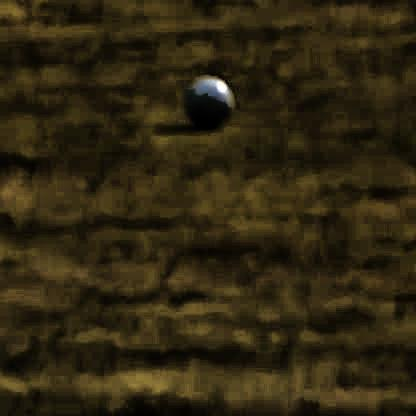golfball: (182, 72, 232, 123)
